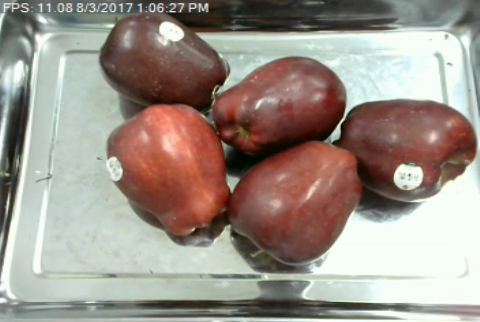Apple: (103, 100, 235, 241), (227, 138, 364, 267), (329, 95, 479, 202), (208, 55, 349, 155), (97, 8, 233, 111)
